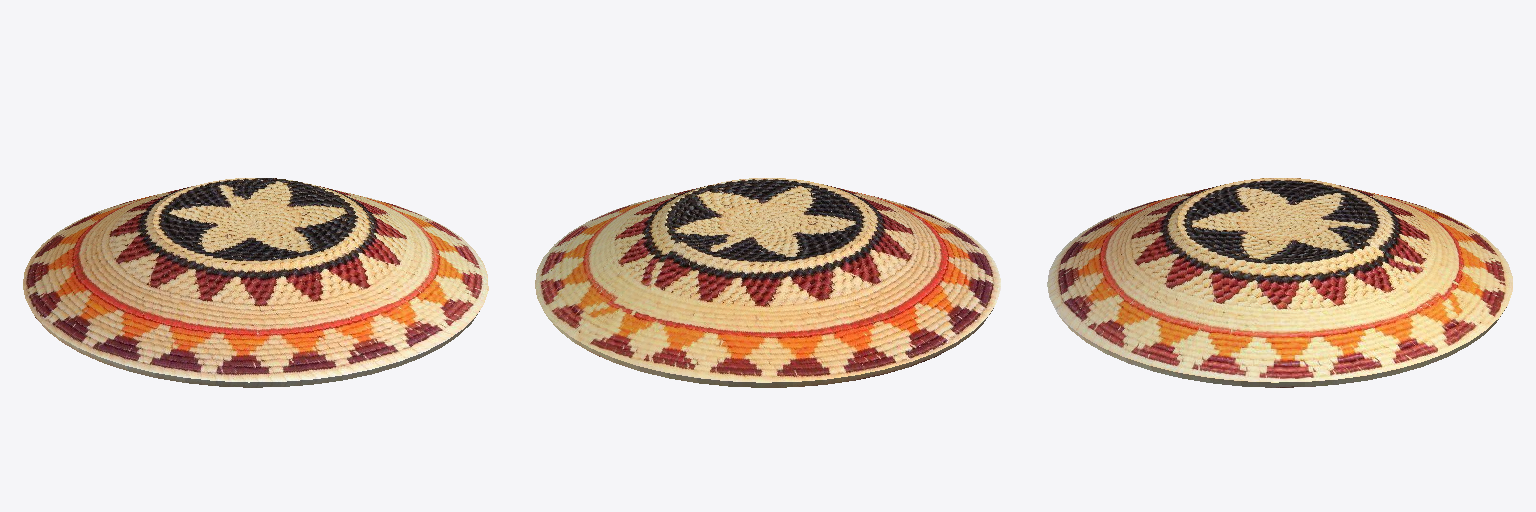
3 views of the same model, side by side, from view 1: azimuth 30°, elevation 25°; view 2: azimuth 150°, elevation 25°; view 3: azimuth 270°, elevation 25° (orthographic).
Visible parts, largest first — view 1: Mesh1 Group1 Model; view 2: Mesh1 Group1 Model; view 3: Mesh1 Group1 Model.
Part boxes in pixels (bbox=[...]): Mesh1 Group1 Model: bbox=[23, 178, 488, 387]; Mesh1 Group1 Model: bbox=[535, 178, 1000, 387]; Mesh1 Group1 Model: bbox=[1047, 178, 1512, 387].
Bounding box in the file's own units: 0.3059 × 0.0507 × 0.3057.
1 materials, 1 textured.